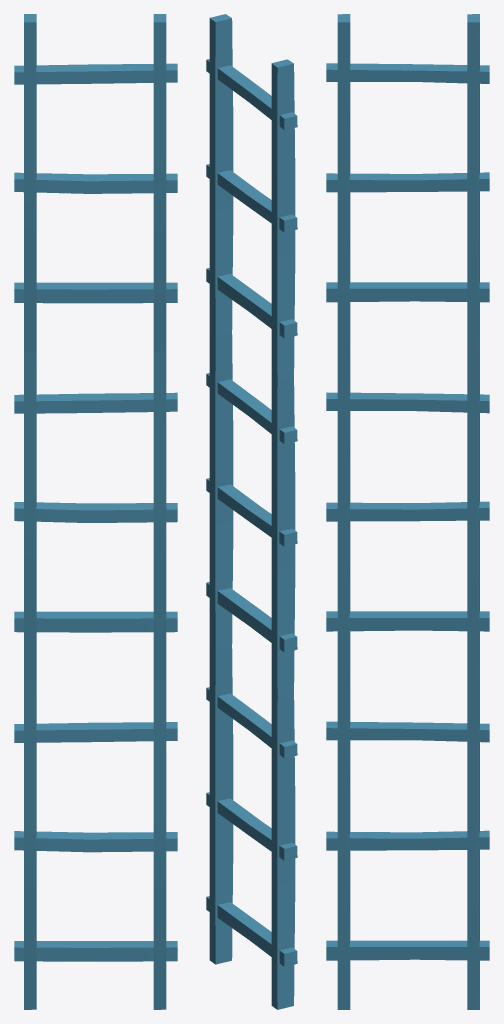
Rendered from Ladder_02_Lod0.fbx.
The picture shows the model from 3 angles, left to right: view 1: azimuth 90°, elevation 25°; view 2: azimuth 210°, elevation 25°; view 3: azimuth 270°, elevation 25°; orthographic projection. The views are drawn at different scales.
Visible parts, largest first — view 1: Ladder_02_Lod0; view 2: Ladder_02_Lod0; view 3: Ladder_02_Lod0.
Boxes of the visible parts, x1=… form: Ladder_02_Lod0: x1=14, y1=14, x2=177, y2=1009; Ladder_02_Lod0: x1=206, y1=14, x2=297, y2=1009; Ladder_02_Lod0: x1=326, y1=14, x2=489, y2=1009.
Size of the model in its own units: 8.85 by 450 by 67.56.
